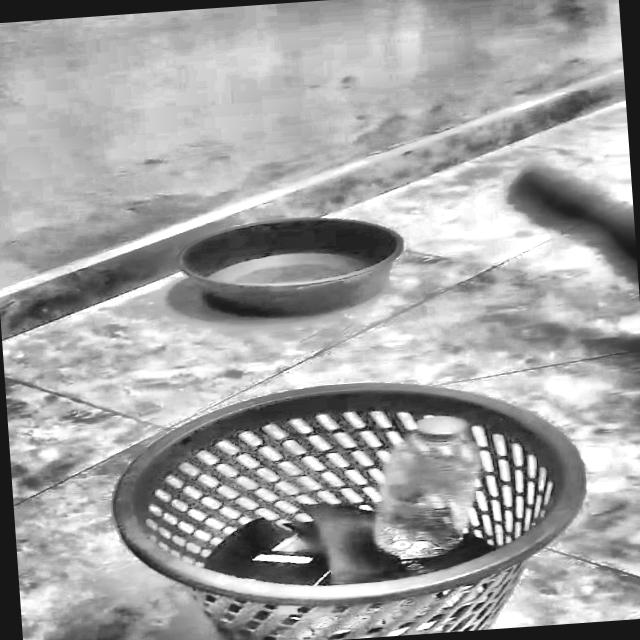Bottle-Disposed: (105, 374, 577, 596)
Plastic-Bottle: (329, 401, 509, 568)
